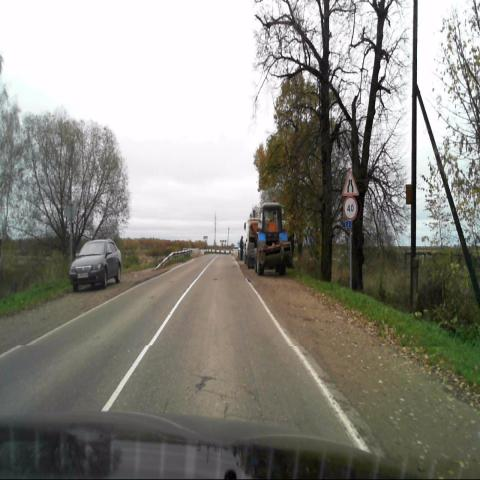1_20: (342, 170, 359, 195)
